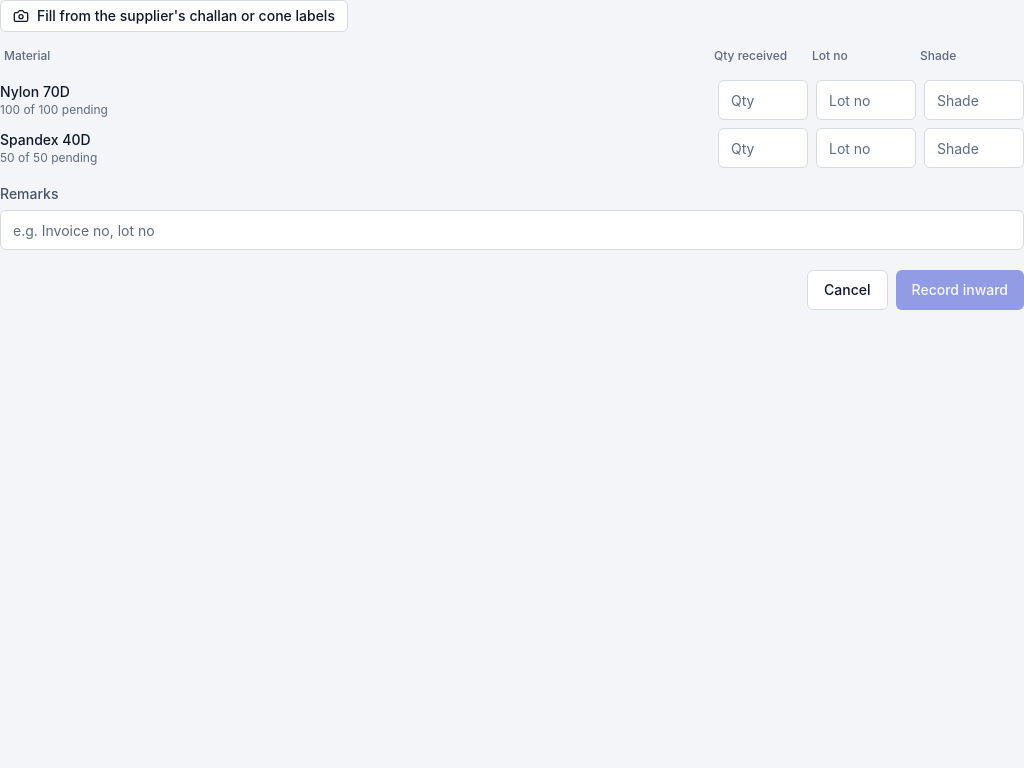
Scenario: two lines over at once › gives each over line its own box in the dialog
This screenshot has width=1024, height=768.
Type "130" into the number field named "Quantity received for Nylon 70D" at (763, 100), box top-left (718, 80), bottom-right (808, 120)
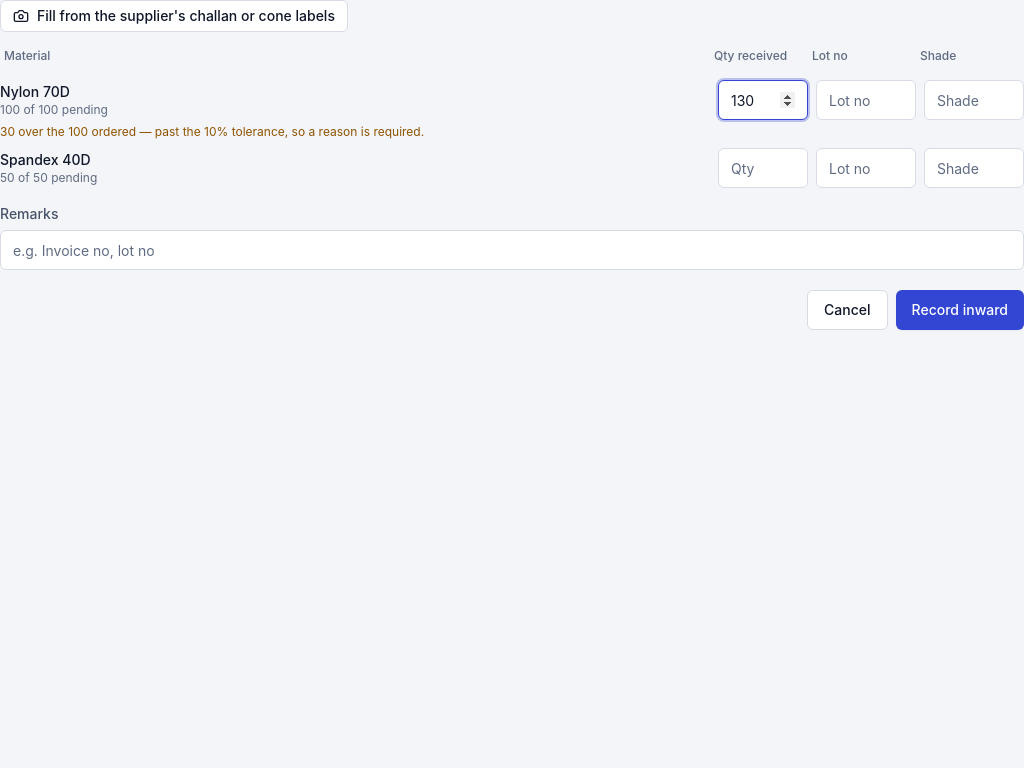
Type "52" into the number field with placeholder "Qty" at (763, 168), box top-left (718, 148), bottom-right (808, 188)
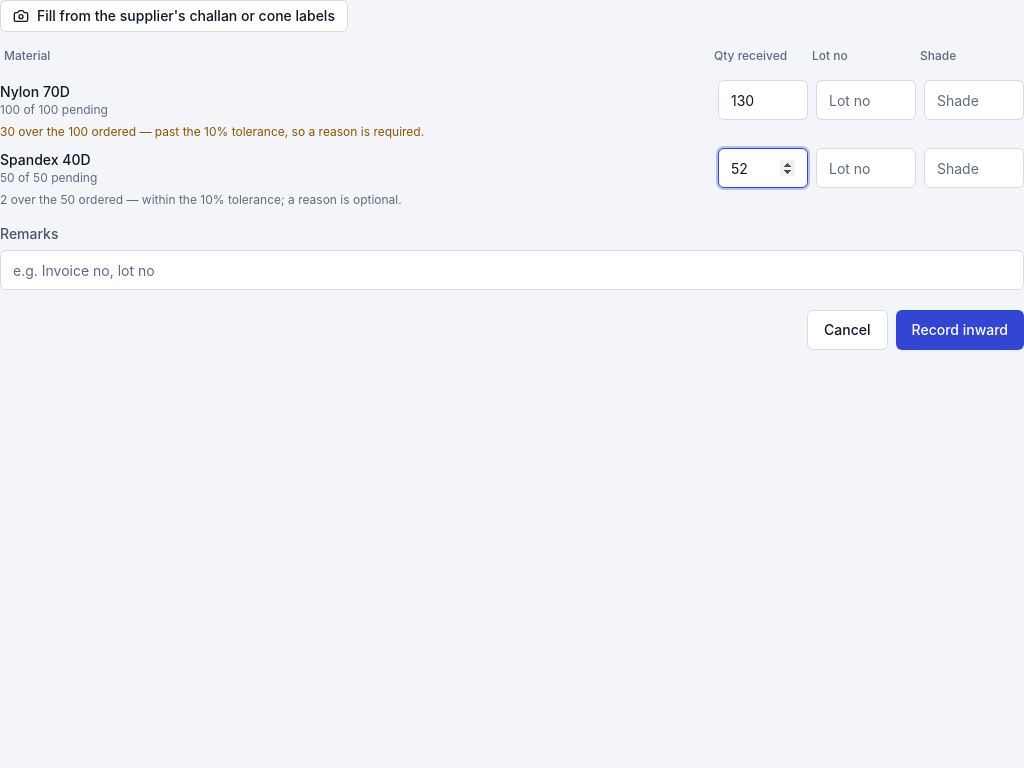
Click the button "Record inward" at (960, 330), box top-left (896, 310), bottom-right (1023, 350)
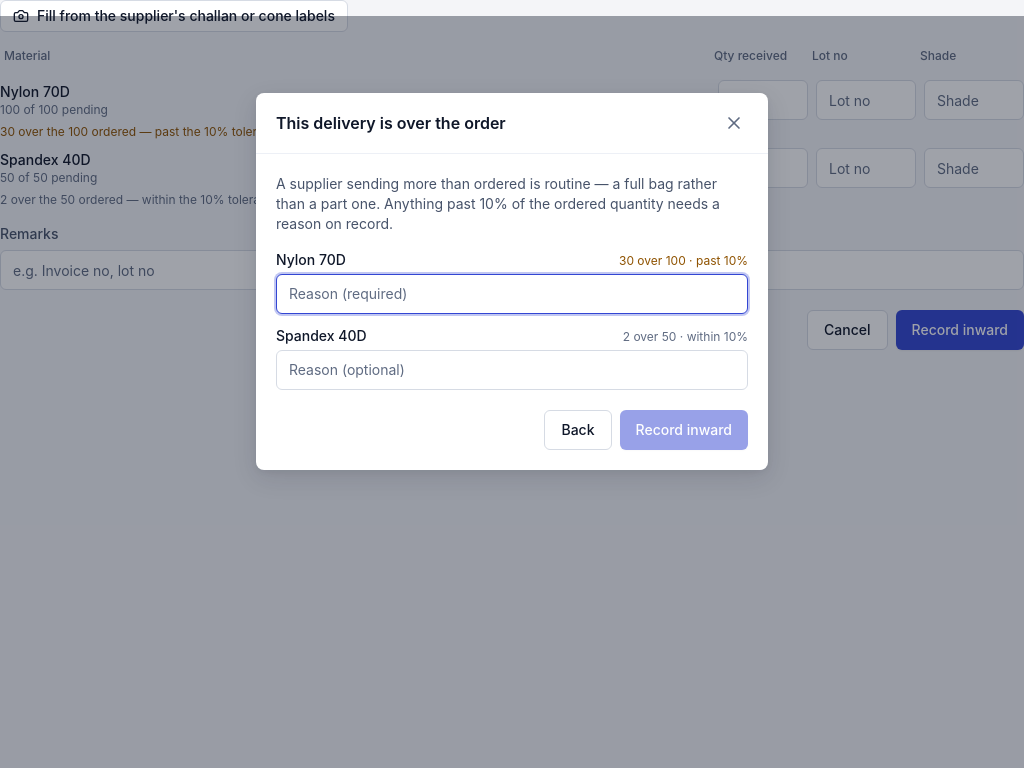
Check: the field named "Reason for the excess on Nylon 70D" is shown, box top-left (276, 274), bottom-right (748, 314)
Check: the field named "Reason for the excess on Spandex 40D" is shown, box top-left (276, 350), bottom-right (748, 390)
Check: the text "30 over 100 · past 10%" is shown, box top-left (619, 253), bottom-right (748, 269)
